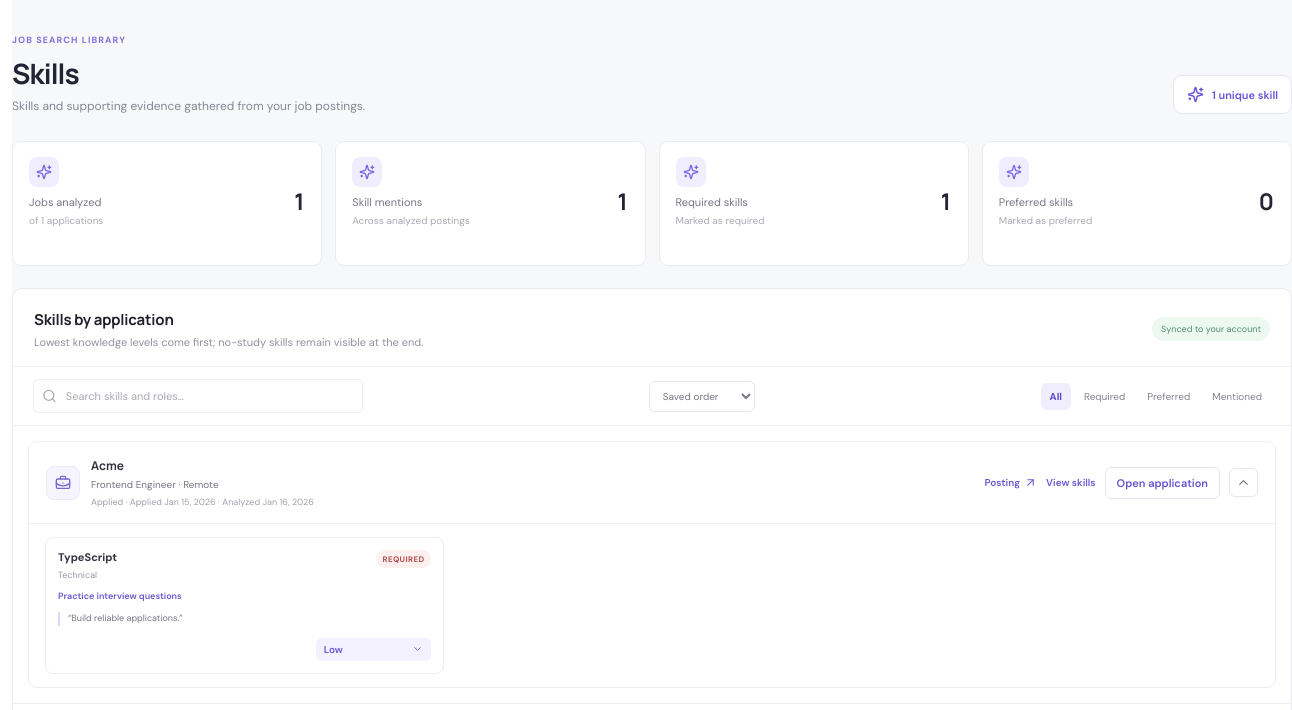
Test case: SkillsPage › explains how to generate interview questions for older saved analyses
Click the button "TypeScript technical Practice interview questions" at (88, 557), box left=58, top=550, right=368, bottom=602
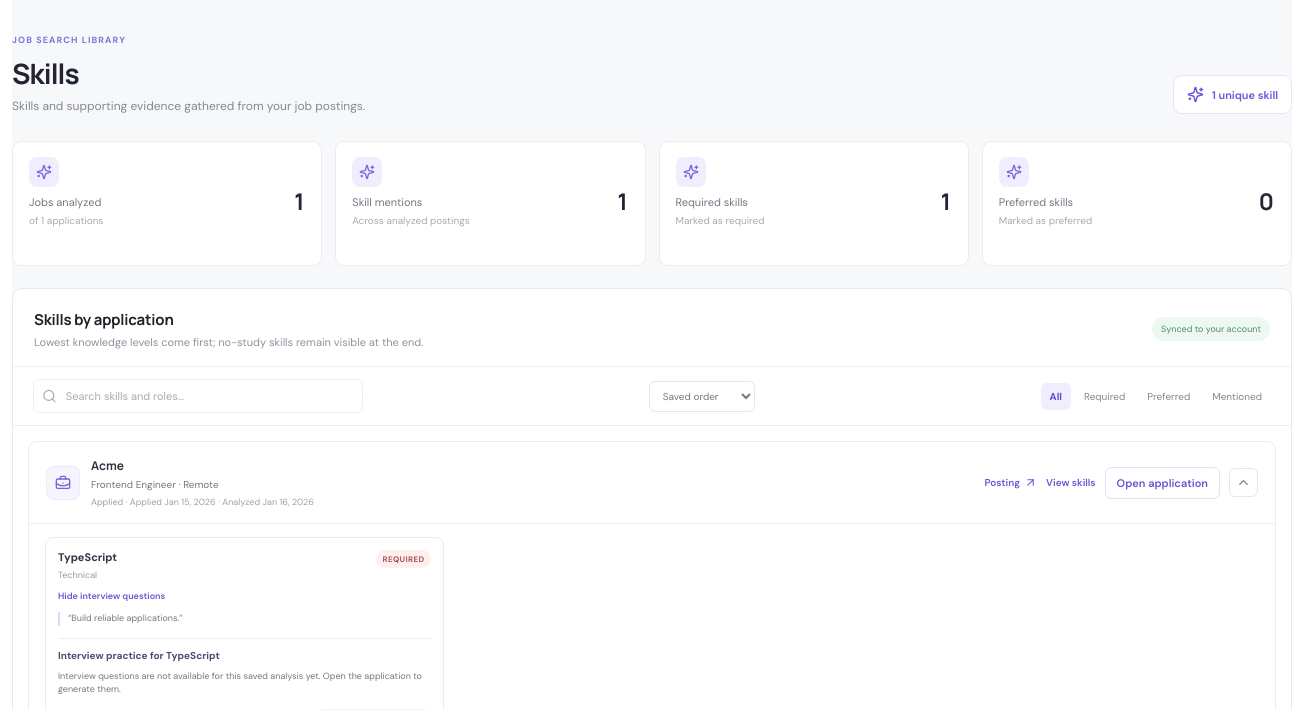
Result: the text "Interview questions are not available for this saved analysis yet. Open the application to generate them." is shown at left=58, top=670, right=422, bottom=695
